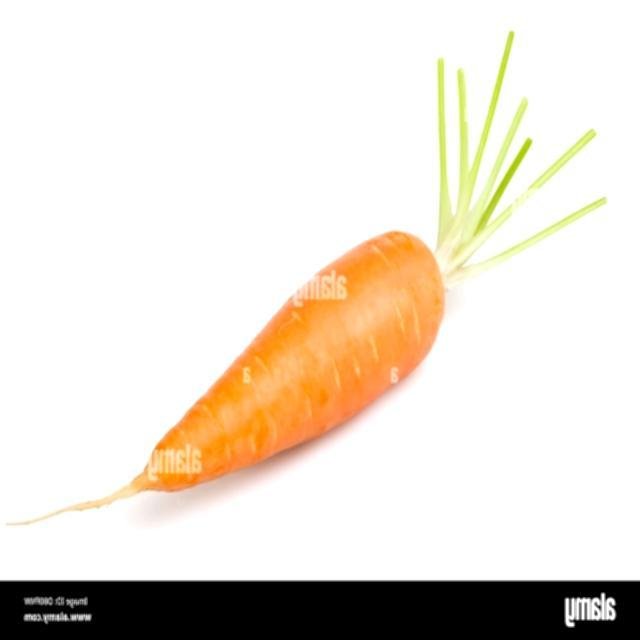carrot: (9, 32, 606, 524)
